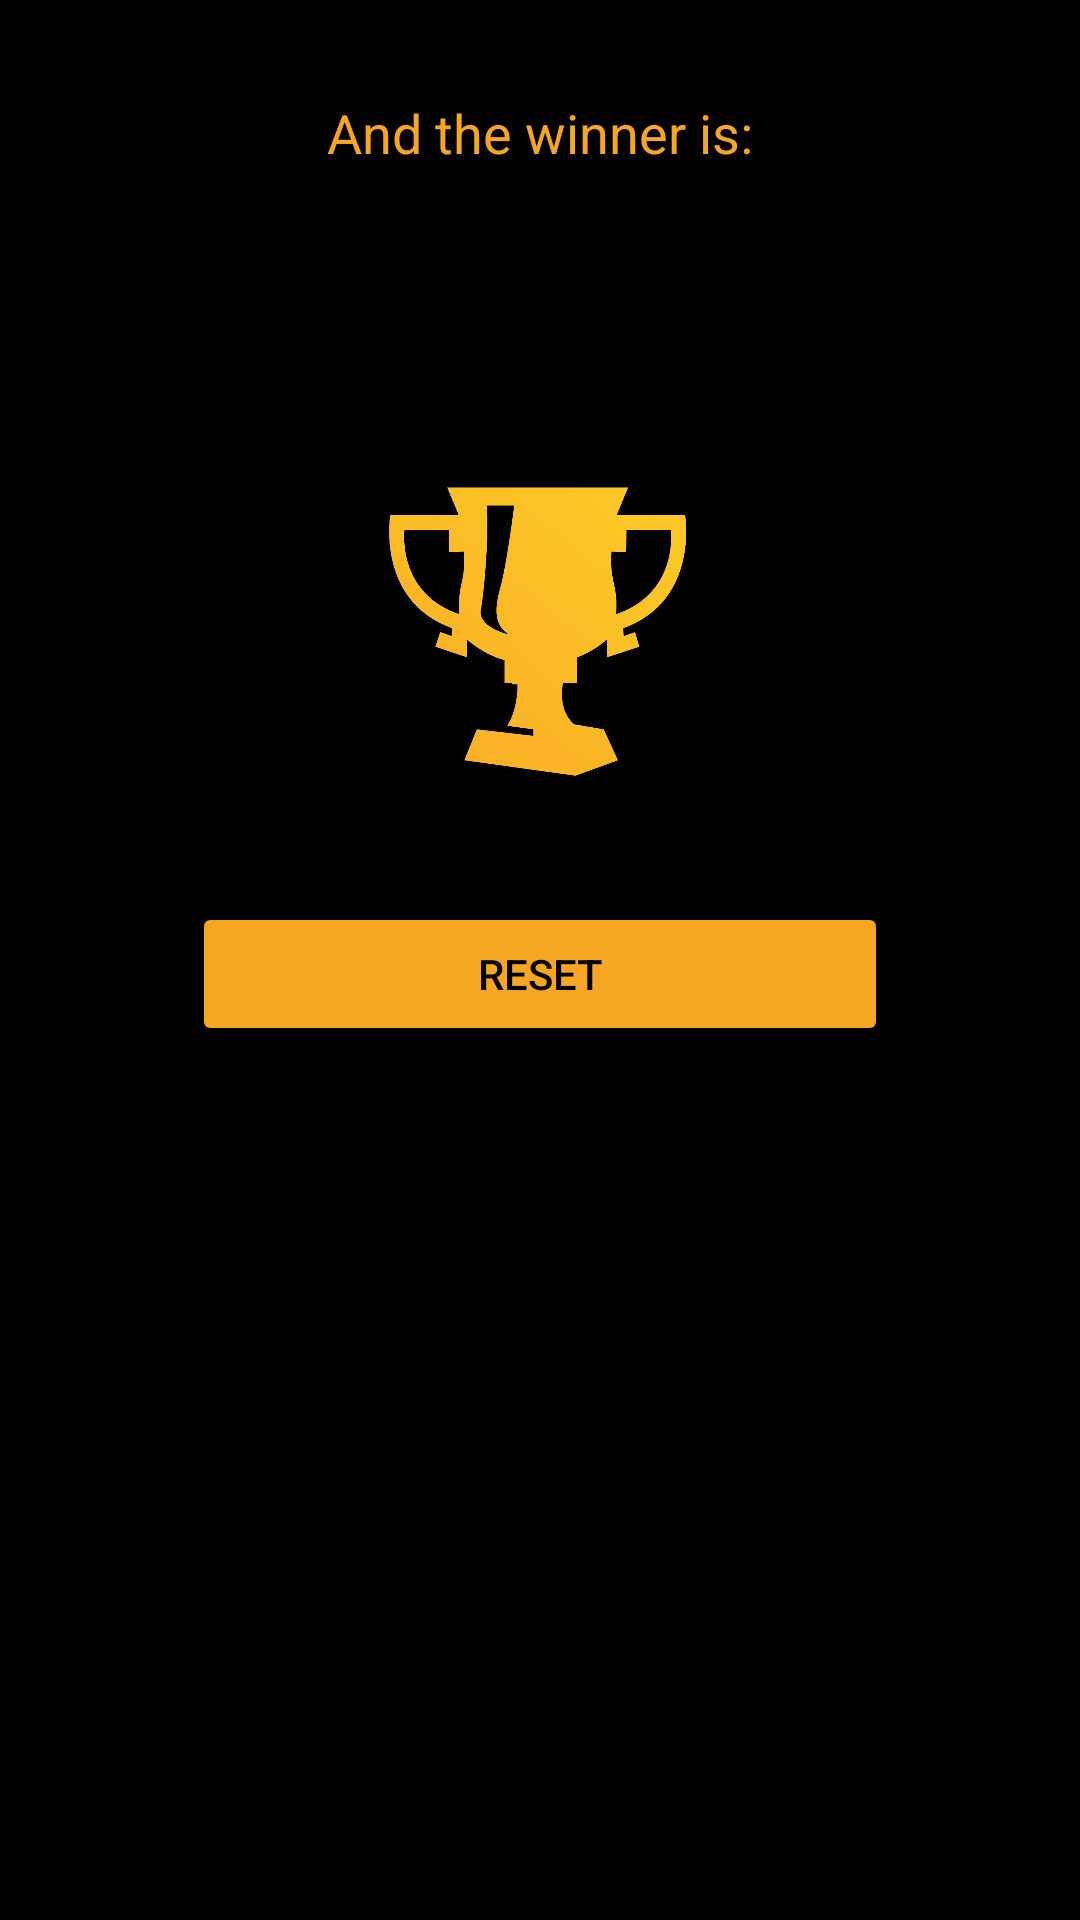

Locate icon controls on the screen. Image size 1080×1920, boxes as (x1, y1, x2, y2).
trophy: (389, 487, 686, 776)
